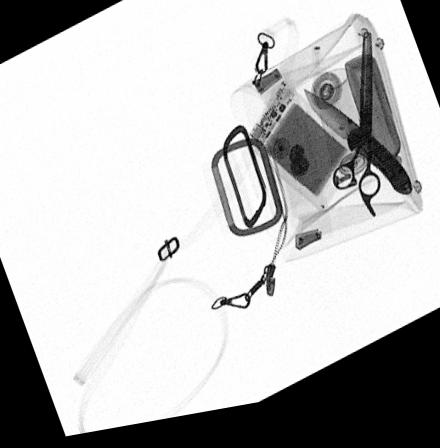Knife: (302, 99, 413, 210)
Powerbank: (239, 88, 357, 225)
Scissors: (330, 45, 381, 235)
Sprayer: (310, 79, 379, 208)
